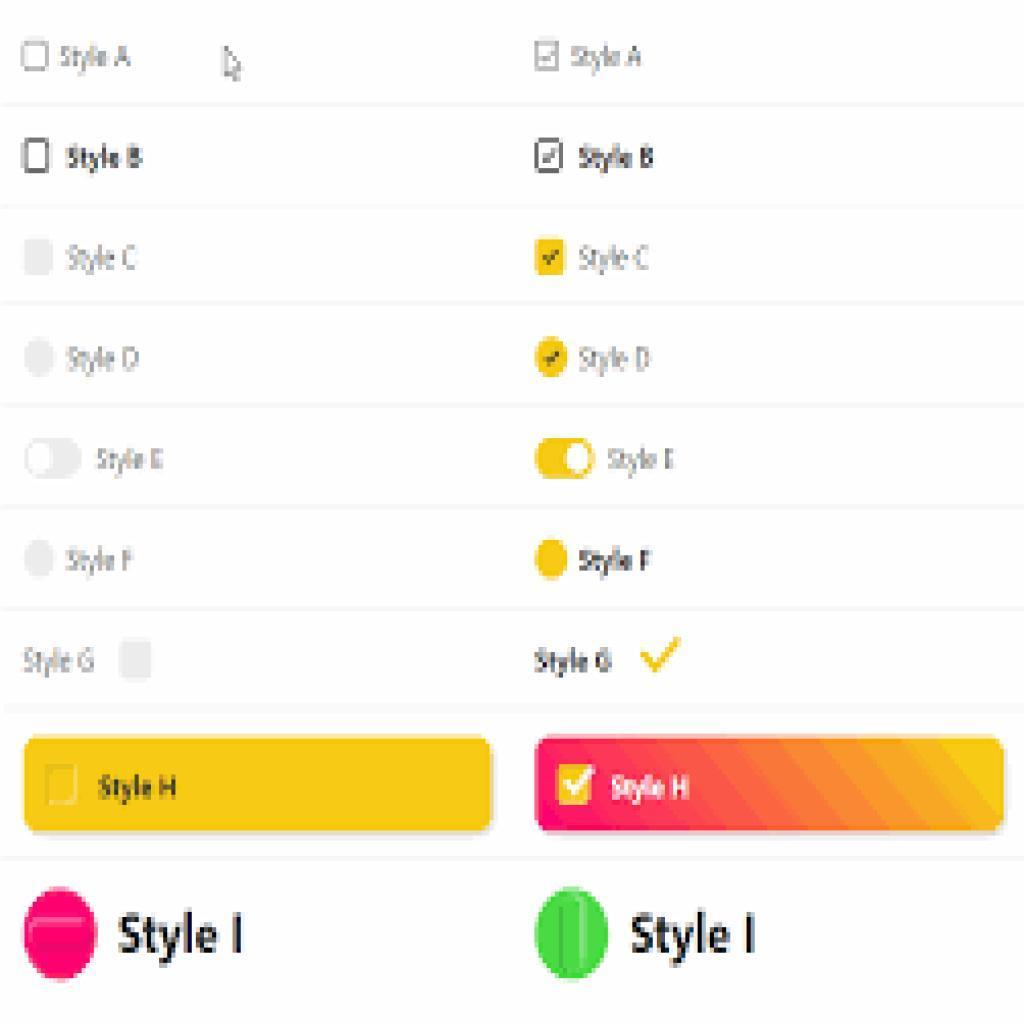checkbox: (119, 638, 155, 682), (534, 237, 571, 279), (534, 136, 568, 179), (46, 765, 79, 807), (558, 767, 592, 807), (24, 242, 56, 276), (24, 138, 51, 177), (536, 40, 561, 76), (21, 40, 49, 72)
label: (574, 343, 657, 390), (95, 772, 189, 810), (63, 138, 153, 177), (26, 639, 103, 684), (609, 441, 680, 486), (577, 240, 656, 280), (66, 239, 147, 278), (574, 140, 660, 176), (66, 343, 145, 379), (578, 542, 657, 578), (92, 445, 168, 482), (66, 540, 136, 580), (571, 38, 645, 71), (59, 44, 140, 74)
radio: (21, 334, 60, 382), (535, 332, 570, 384), (535, 538, 569, 579), (25, 541, 57, 581)
switch: (537, 437, 598, 484), (25, 439, 83, 481)
